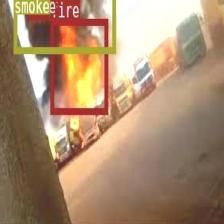fire: (49, 17, 108, 113), (26, 0, 48, 18)
smoke: (12, 0, 114, 51)
